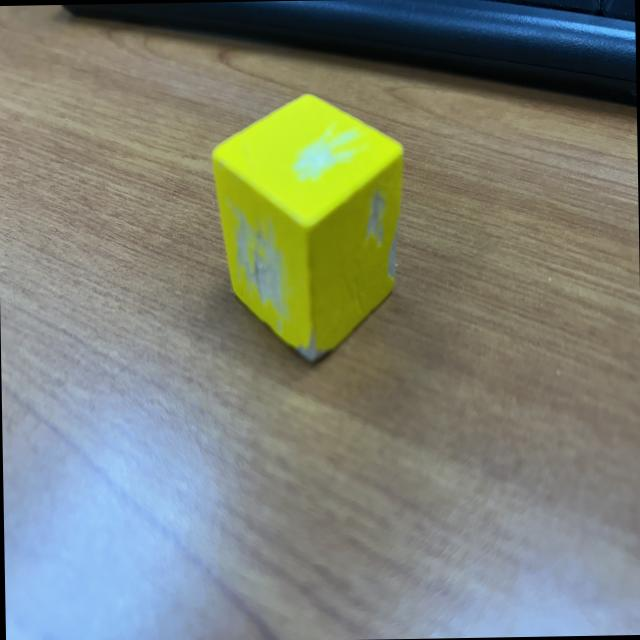broken: (210, 92, 407, 366)
